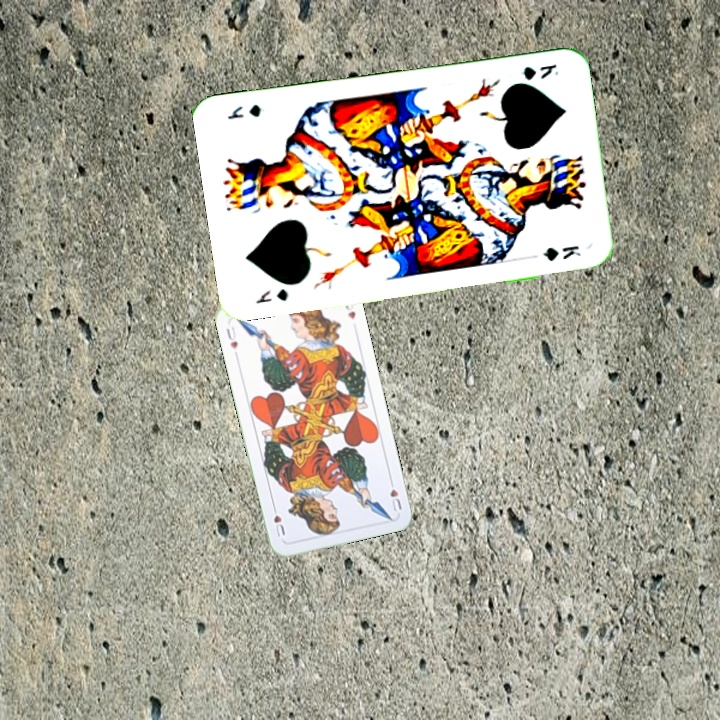GK: (519, 60, 559, 83), (252, 284, 291, 307)
HU: (386, 475, 404, 514), (222, 322, 240, 359)
